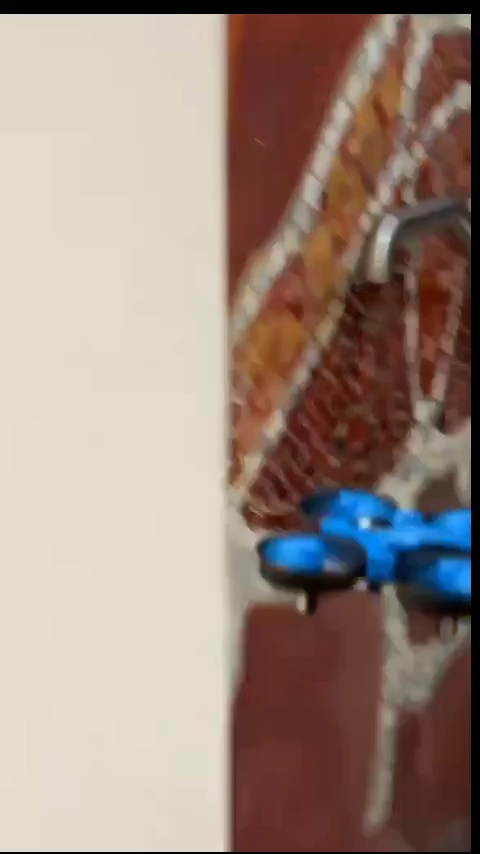drone: (258, 490, 470, 639)
